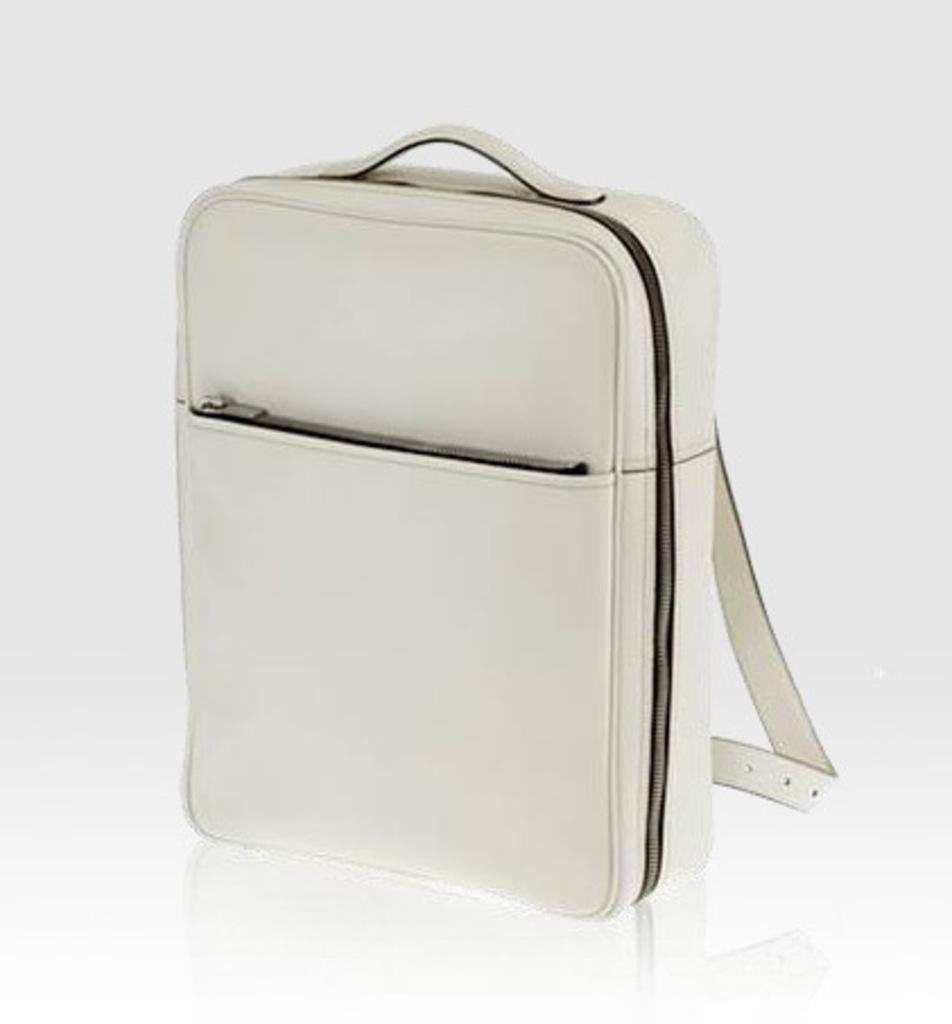Luggage-and-bags: (127, 88, 850, 925)
